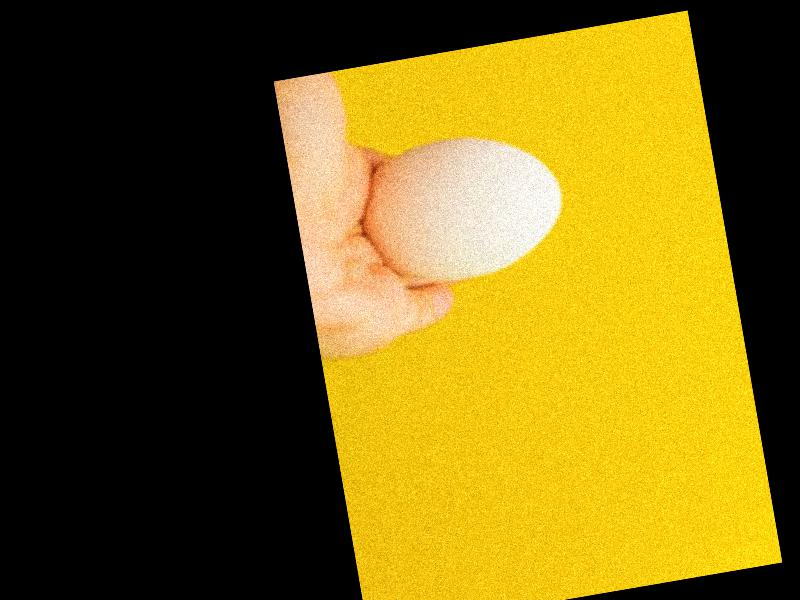Eggs: (354, 127, 574, 293)
